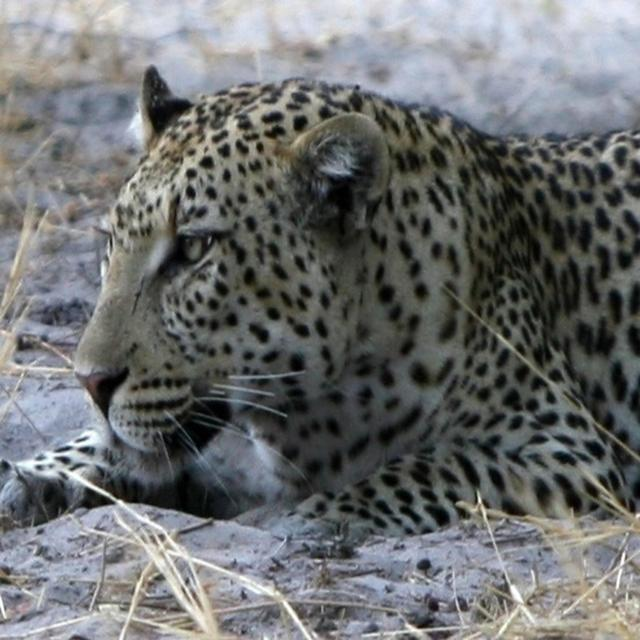Leopard: (4, 62, 640, 585)
